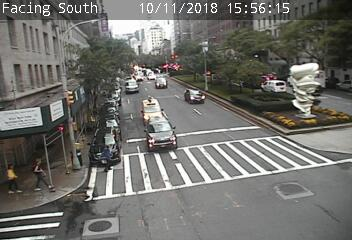car: (146, 117, 176, 152), (142, 99, 162, 126), (184, 89, 204, 103), (155, 78, 167, 88)
